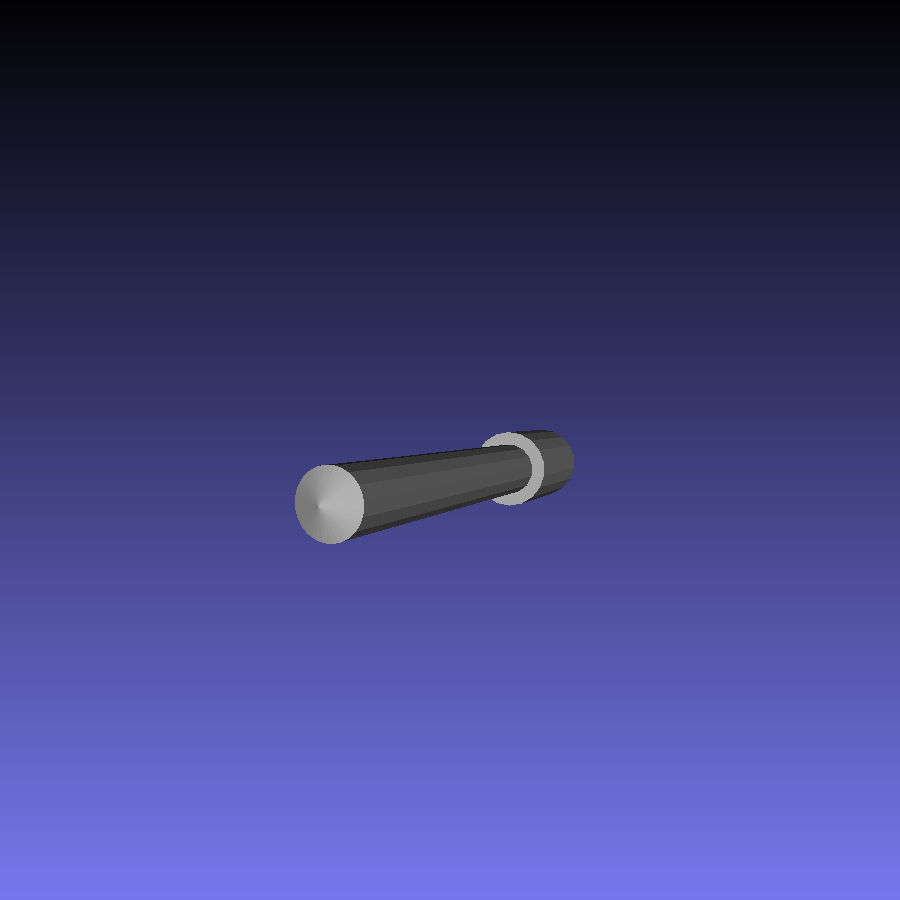cargo_g: (296, 430, 576, 546)
